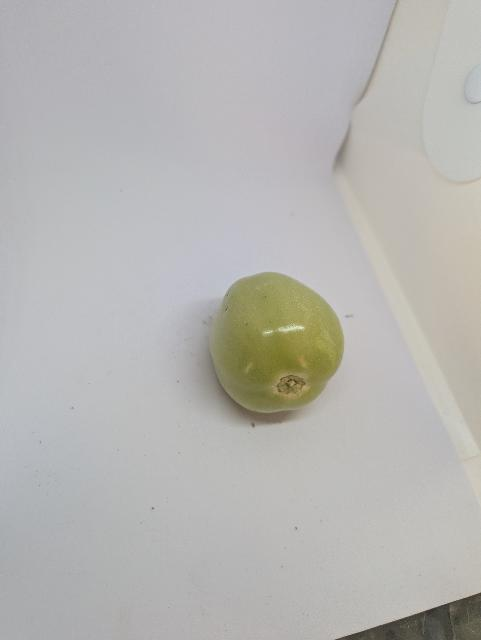green: (207, 269, 349, 415)
